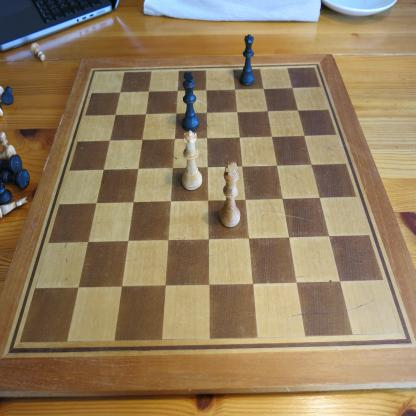black-king: (182, 71, 199, 132)
black-queen: (238, 34, 254, 86)
white-king: (218, 162, 240, 228)
white-knight: (0, 196, 29, 219)
white-pawn: (30, 42, 46, 63), (0, 131, 9, 152)
white-queen: (182, 130, 203, 191)
